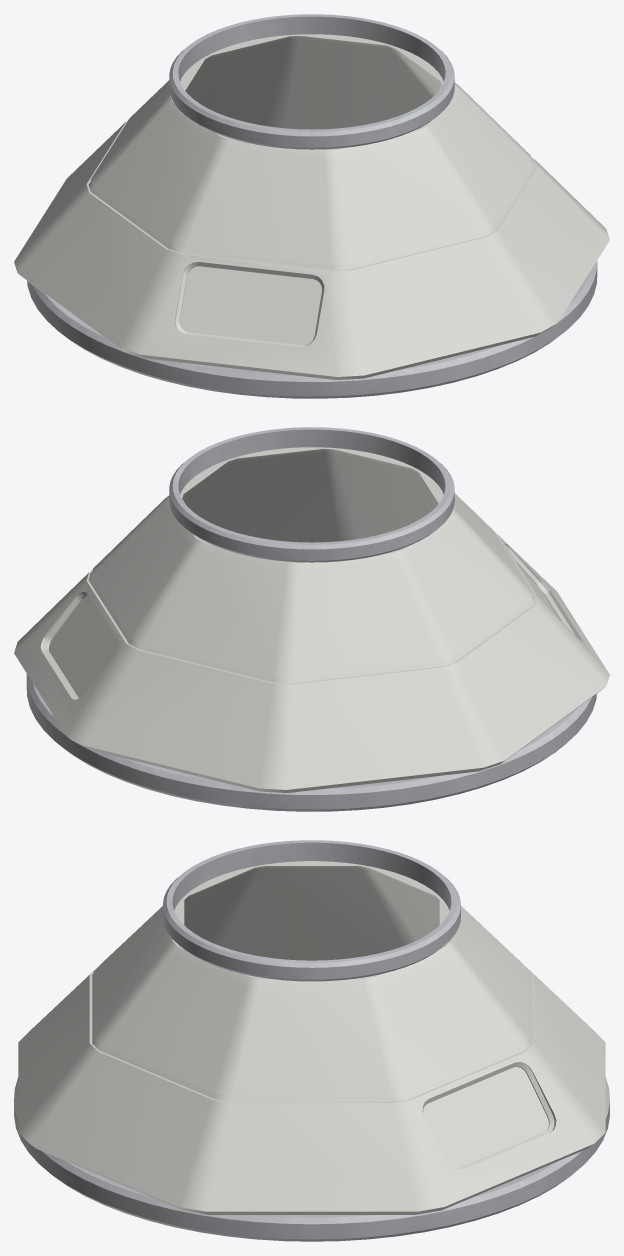
Rendered from ax_struct_01_adapter_s_m.glb.
3 views of the same model, one above another, from view 1: azimuth 30°, elevation 25°; view 2: azimuth 150°, elevation 25°; view 3: azimuth 270°, elevation 25° (orthographic). The views are drawn at different scales.
Visible parts, largest first — view 1: adapter_shell, interface_rings; view 2: adapter_shell, interface_rings; view 3: adapter_shell, interface_rings.
Boxes of the visible parts, x1=… form: adapter_shell: x1=14, y1=34, x2=609, y2=379; interface_rings: x1=27, y1=14, x2=597, y2=398; adapter_shell: x1=14, y1=447, x2=609, y2=792; interface_rings: x1=26, y1=427, x2=596, y2=811; adapter_shell: x1=18, y1=861, x2=605, y2=1214; interface_rings: x1=14, y1=840, x2=609, y2=1241.
Size of the model in its own units: 2.5 by 1 by 2.5.
2 materials, 1 textured.
